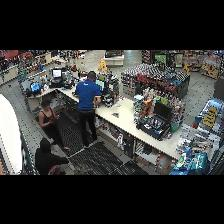person: (76, 72, 100, 148), (39, 100, 70, 151), (35, 138, 68, 174)
